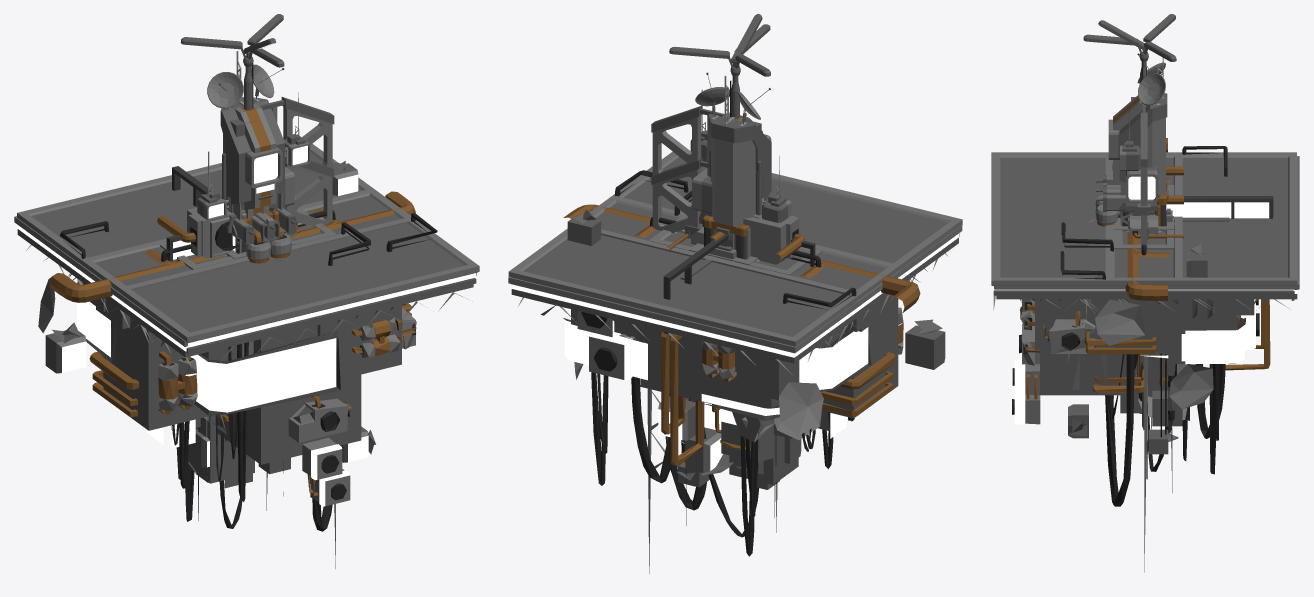
File: props.glb
3 renders of one model, left to right at view 1: azimuth 30°, elevation 25°; view 2: azimuth 150°, elevation 25°; view 3: azimuth 270°, elevation 25°, orthographic. The views are drawn at different scales.
Parts seen in each view (by area): view 1: Platform_4x4_Empty, Platform_4x4, Platform_4x2, Computer_Large, Platform_2x2, Pipe_2, Platform_4x1_Empty, AC_Side, Support_Long, TV_3, Platform_4x1, Light_Street_2 (+5 smaller); view 2: Platform_4x4_Empty, Platform_4x4, Platform_4x2, Computer_Large, Platform_2x2, Support_Long, Platform_4x1_Empty, AC_Side, Support_Short, Pipe_2, Light_Street_2, Platform_4x1 (+4 smaller); view 3: Platform_4x4_Empty, Platform_4x4, Platform_4x2, Computer_Large, Platform_2x2, Platform_4x1_Empty, TV_3, Sign_Corner_1, Pipe_2, Light_Street_2, Platform_4x1, Sign_Corner_2 (+6 smaller).
Boxes of the visible parts, x1,y1,x2,y2 form: Platform_4x4_Empty: [17, 144, 479, 353]; Platform_4x4: [14, 216, 476, 531]; Platform_4x2: [45, 161, 437, 568]; Computer_Large: [197, 51, 310, 253]; Platform_2x2: [171, 222, 370, 528]; Pipe_2: [49, 191, 415, 302]; Platform_4x1_Empty: [88, 190, 408, 290]; AC_Side: [157, 207, 296, 258]; Support_Long: [259, 97, 334, 220]; TV_3: [230, 63, 294, 210]; Platform_4x1: [78, 259, 291, 488]; Light_Street_2: [181, 14, 284, 109]; Platform_4x4_Empty: [508, 151, 962, 346]; Platform_4x4: [508, 225, 962, 525]; Platform_4x2: [567, 170, 945, 573]; Computer_Large: [690, 72, 791, 249]; Platform_2x2: [674, 190, 830, 537]; Support_Long: [651, 105, 724, 227]; Platform_4x1_Empty: [601, 197, 892, 295]; AC_Side: [691, 215, 804, 264]; Support_Short: [651, 158, 709, 232]; Pipe_2: [563, 204, 920, 312]; Light_Street_2: [669, 24, 770, 118]; Platform_4x1: [822, 271, 898, 469]; Platform_4x4_Empty: [991, 152, 1296, 295]; Platform_4x4: [993, 156, 1299, 506]; Platform_4x2: [1060, 146, 1259, 572]; Computer_Large: [1113, 53, 1167, 226]; Platform_2x2: [1061, 222, 1176, 471]; Platform_4x1_Empty: [1105, 155, 1182, 295]; TV_3: [1108, 59, 1158, 203]; Sign_Corner_1: [1166, 198, 1234, 218]; Pipe_2: [1125, 138, 1167, 300]; Light_Street_2: [1083, 14, 1176, 82]; Platform_4x1: [1087, 218, 1185, 380]; Sign_Corner_2: [1184, 196, 1273, 218].
Bounding box in the file's own units: 4.87 × 7.36 × 3.93.
